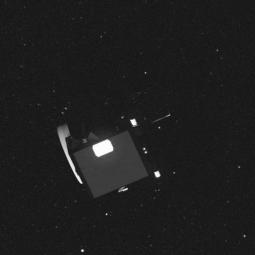proba_3_csc: (55, 72, 194, 204)
